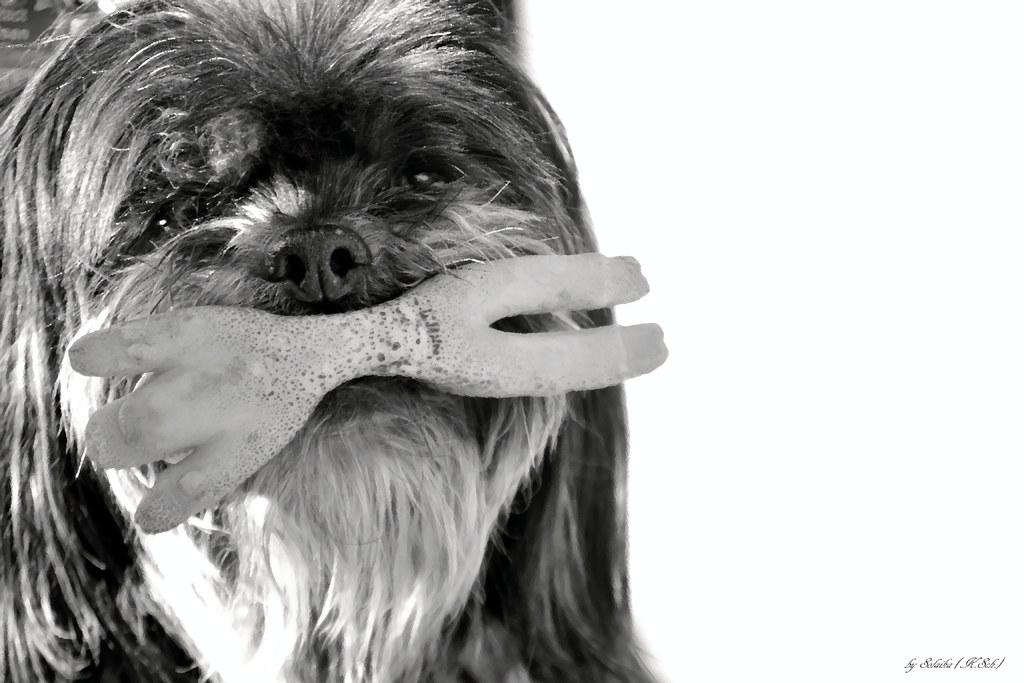Dog: (0, 0, 668, 682)
